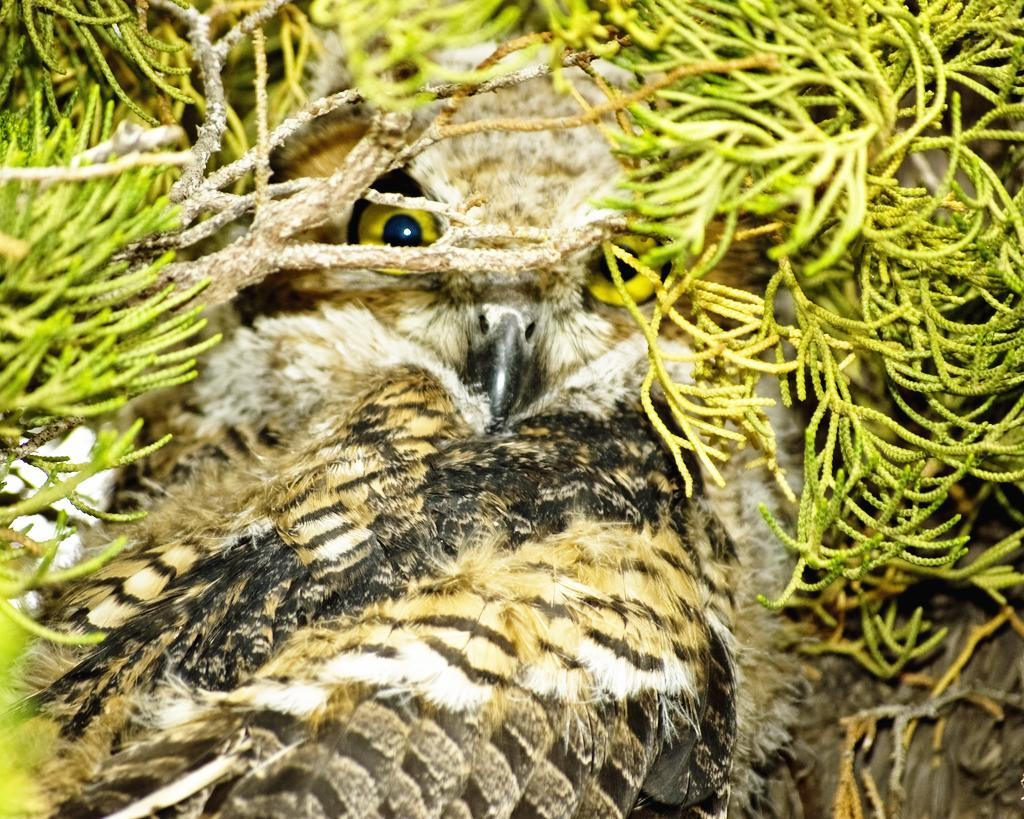Owl: (101, 42, 819, 818)
